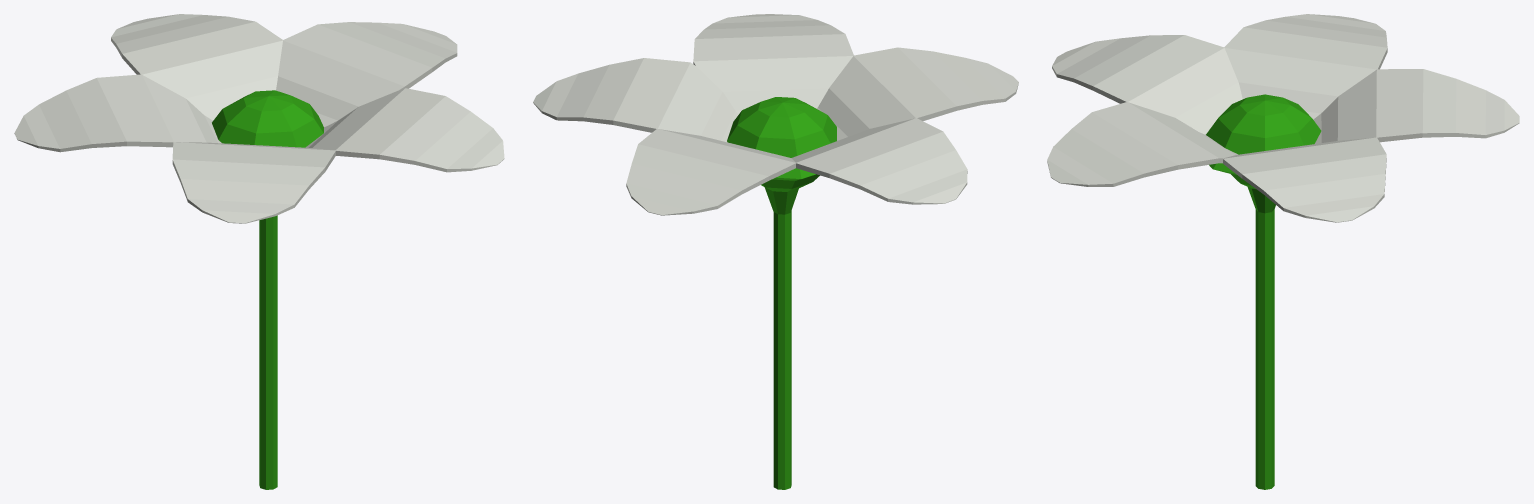
File: flower (1).fbx
3 renders of one model, left to right at view 1: azimuth 30°, elevation 25°; view 2: azimuth 150°, elevation 25°; view 3: azimuth 270°, elevation 25°, orthographic.
Visible parts, largest first — view 1: Sphere; view 2: Sphere; view 3: Sphere.
Part boxes in pixels (x1,y1,x2,y2): Sphere: [14, 14, 504, 489]; Sphere: [533, 14, 1018, 489]; Sphere: [1047, 14, 1519, 489].
Bounding box in the file's own units: 1073 × 935 × 1039.
